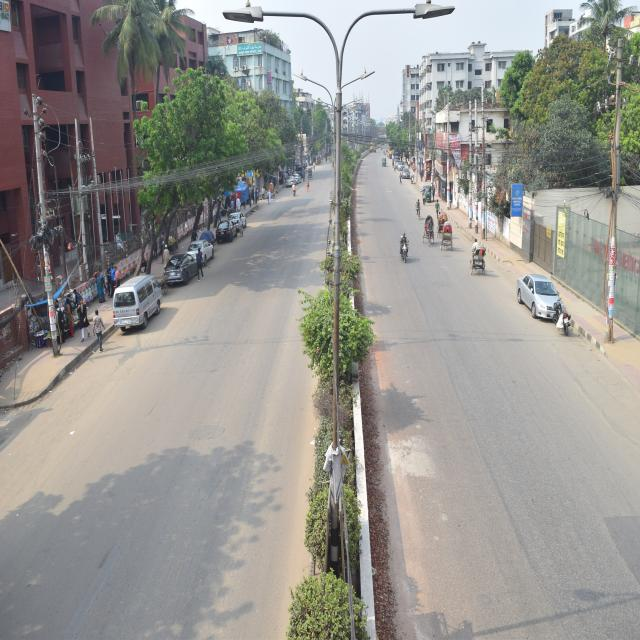car: (65, 0, 129, 199), (514, 263, 559, 319), (167, 233, 201, 294), (233, 202, 253, 234), (194, 232, 213, 259), (218, 217, 237, 241)
microbus: (111, 262, 169, 337)
motorbike: (546, 291, 576, 336), (394, 232, 418, 269), (290, 179, 304, 204)
